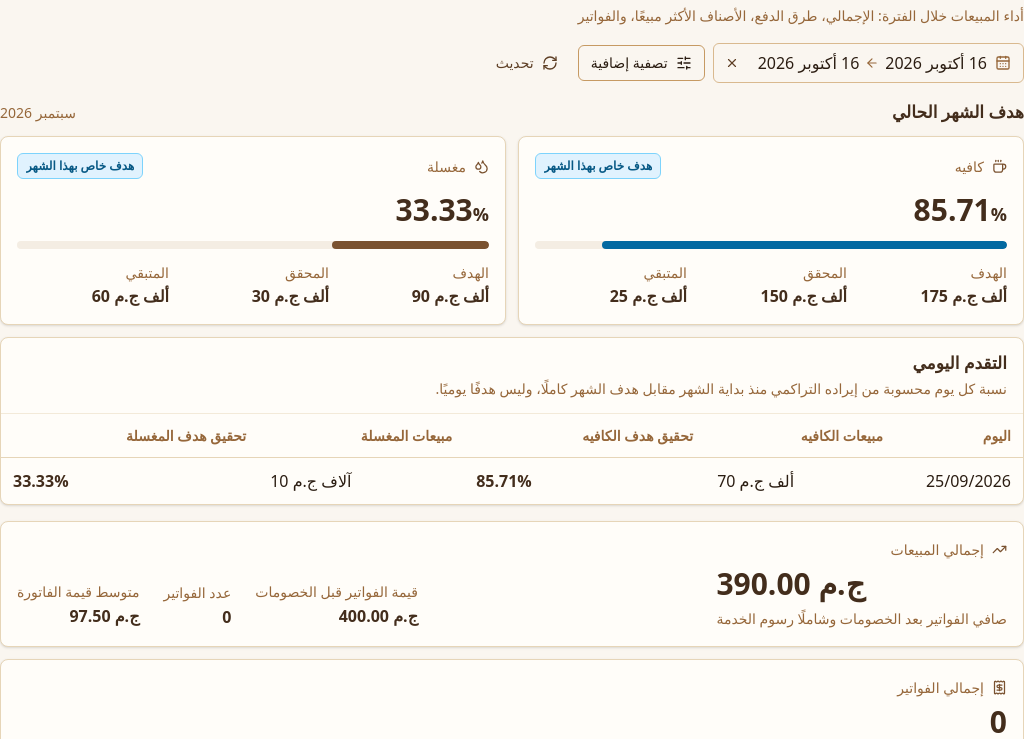
Test: SalesPage › distinguishes "no sales in this period" from "no results for these filters"
The image size is (1024, 739).
# The same empty dataset under a filter explains itself differently.
Click the button "تصفية إضافية". click: point(641, 63)
box: [578,45,705,81]
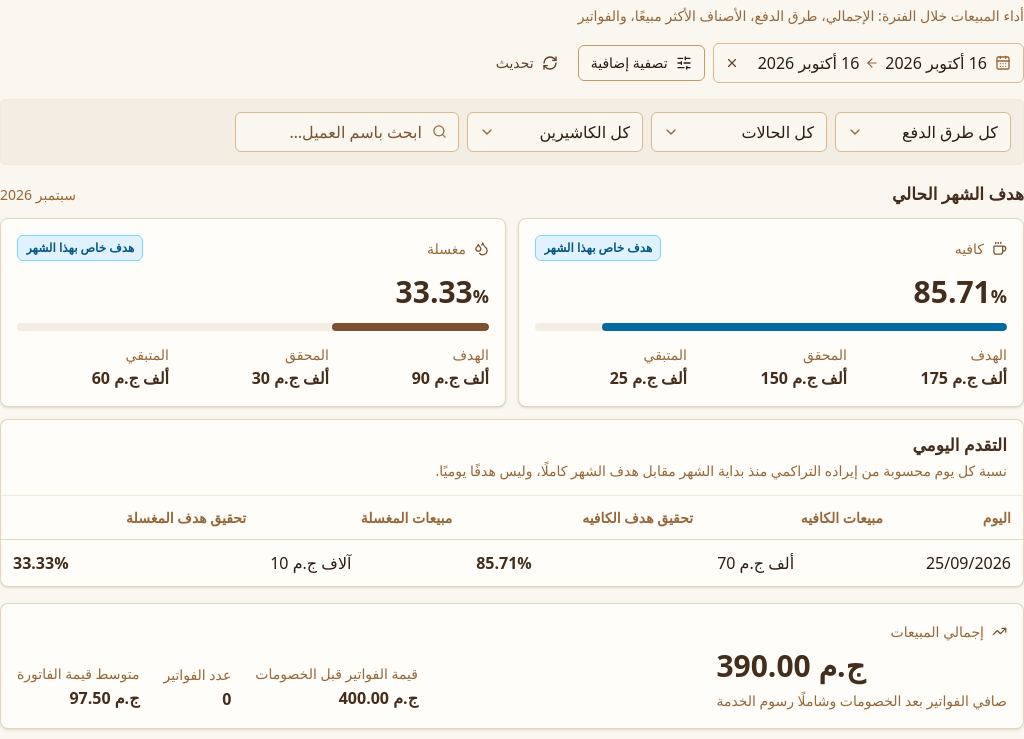
Select "بطاقة" in the 3rd dropdown named "طريقة الدفع". click: point(923, 132)
box: [835,112,1011,152]
(page scrolled)
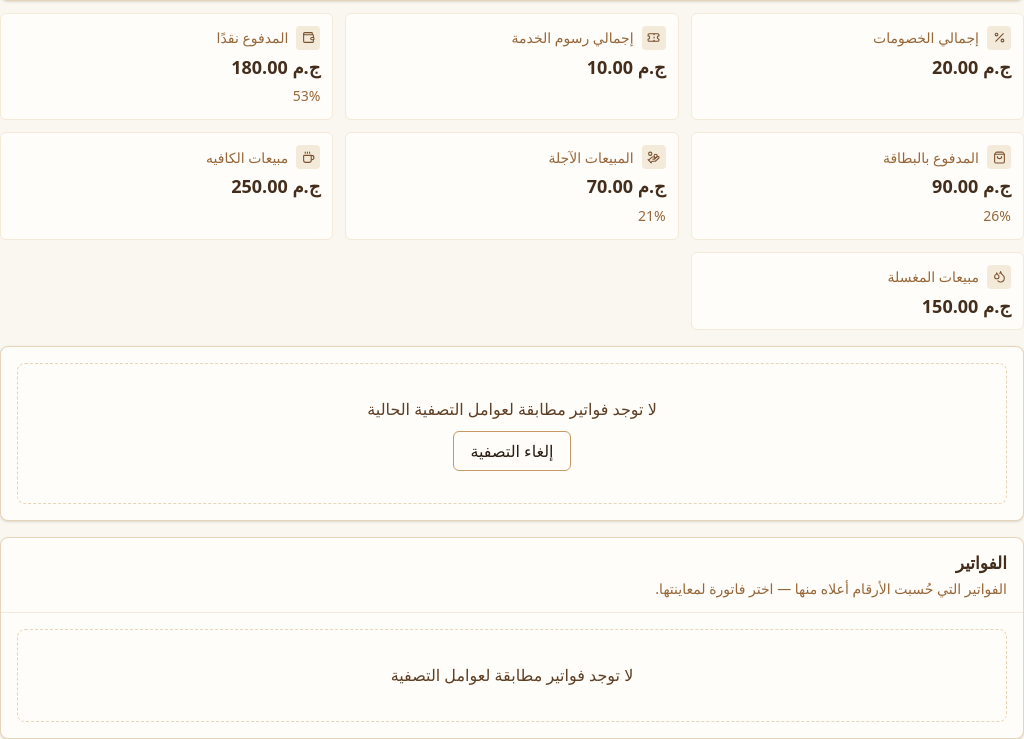
Expected: the text "لا توجد فواتير مطابقة لعوامل التصفية" is shown, [391,662,633,689]
